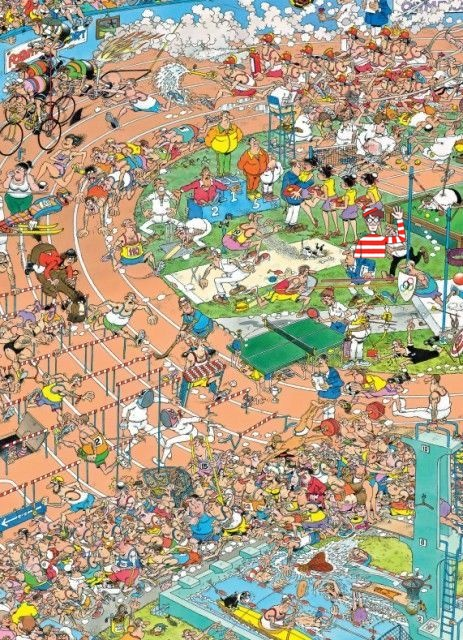waldo: (353, 205, 406, 258)
